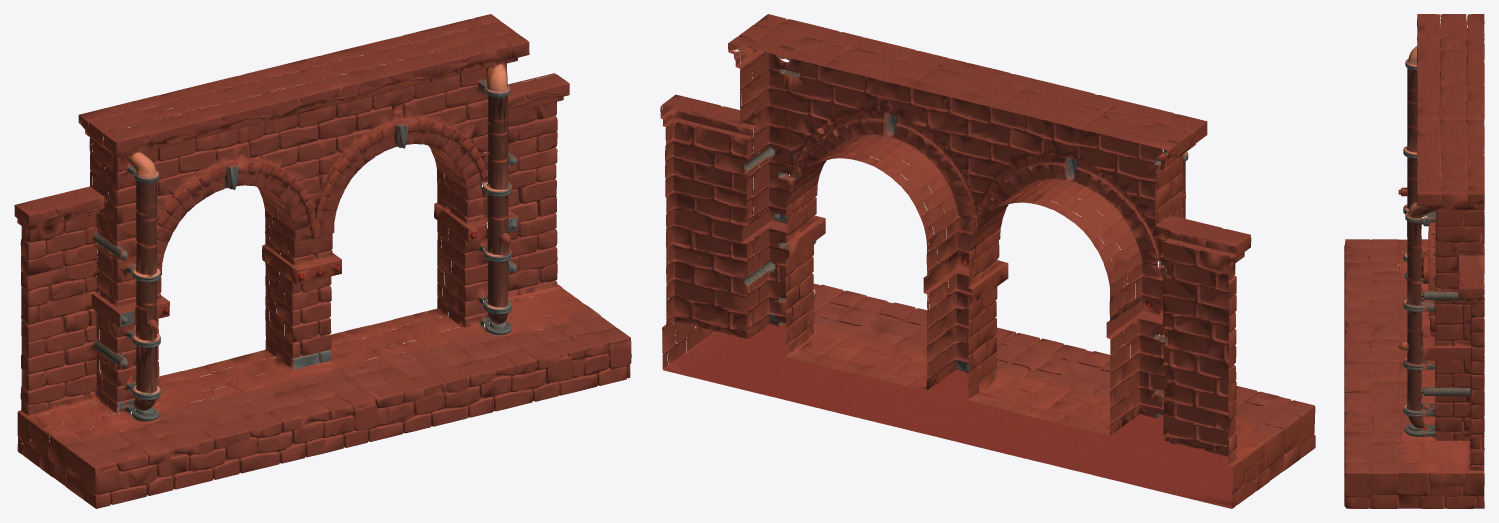
Rendered from kiln_bay.glb.
3 renders of one model, left to right at view 1: azimuth 30°, elevation 25°; view 2: azimuth 150°, elevation 25°; view 3: azimuth 270°, elevation 25°, orthographic. The views are drawn at different scales.
Bounding box in the file's own units: 1.9 × 1.09 × 0.4784.
Materials: 1 (1 with a texture image).
